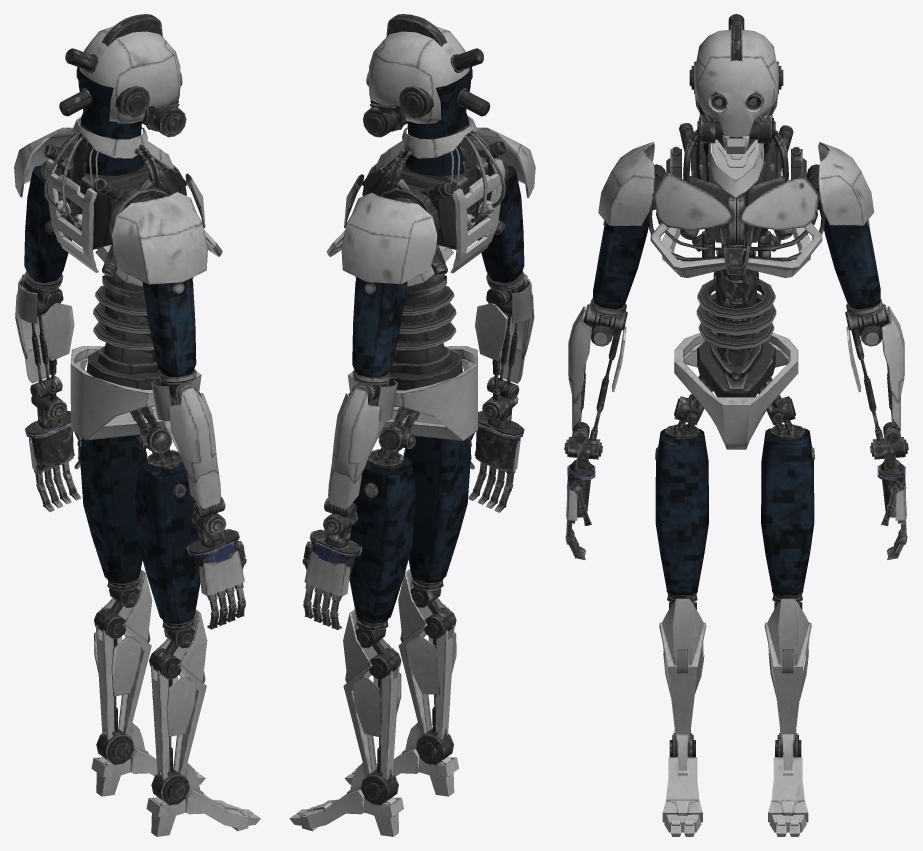
Rendered from xbot_4000.obj.
3 renders of one model, left to right at view 1: azimuth 30°, elevation 25°; view 2: azimuth 150°, elevation 25°; view 3: azimuth 270°, elevation 25°, orthographic. The views are drawn at different scales.
Size of the model in its own units: 0.1403 by 0.6223 by 0.2528.
1 material, 1 textured.
